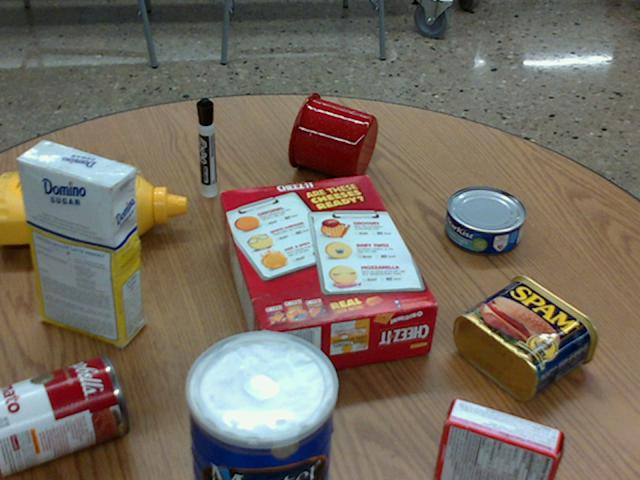cracker_box: (217, 175, 436, 376)
gelatin_box: (434, 397, 563, 479)
large_marker: (196, 98, 215, 197)
master_chef_can: (182, 331, 333, 479)
mug: (288, 92, 377, 181)
mustard_bottle: (0, 173, 185, 244)
potted_meat_can: (455, 274, 597, 401)
sugar_box: (16, 140, 141, 347)
tomato_soup_can: (0, 353, 128, 475)
tuna_fish_can: (445, 186, 525, 254)
